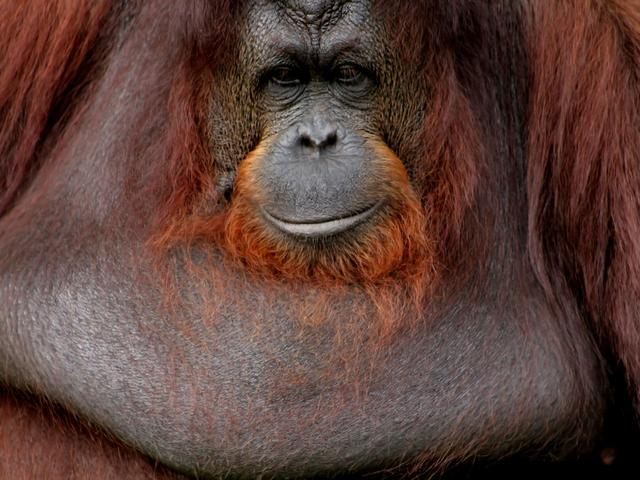monkey: (8, 17, 623, 451)
